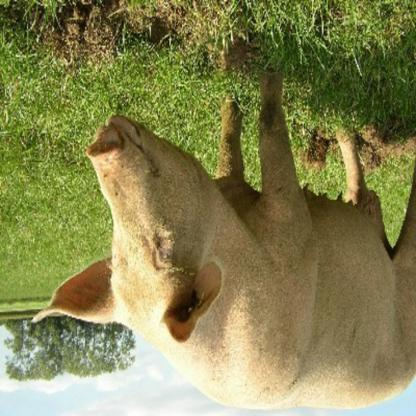boar: (29, 65, 415, 412)
